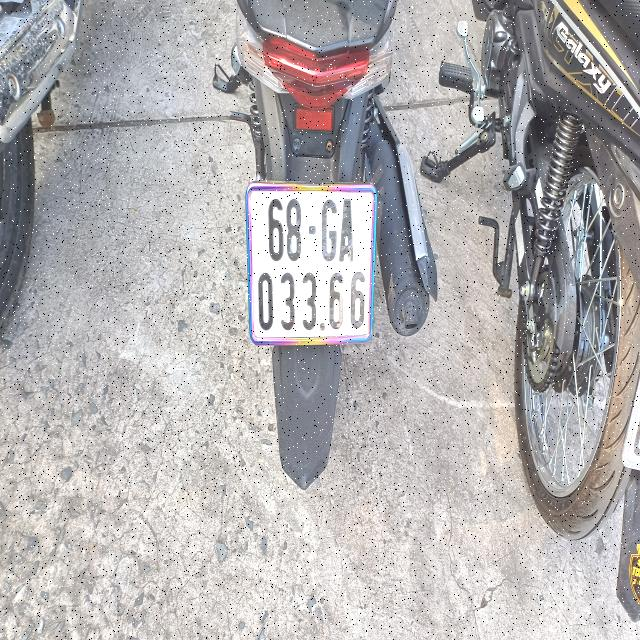0: (258, 271, 272, 330)
3: (280, 271, 297, 329), (303, 269, 316, 333)
6: (268, 197, 284, 261), (350, 270, 366, 328), (329, 270, 344, 330)
8: (287, 199, 301, 261)
A: (339, 197, 354, 262)
G: (320, 200, 338, 260)
